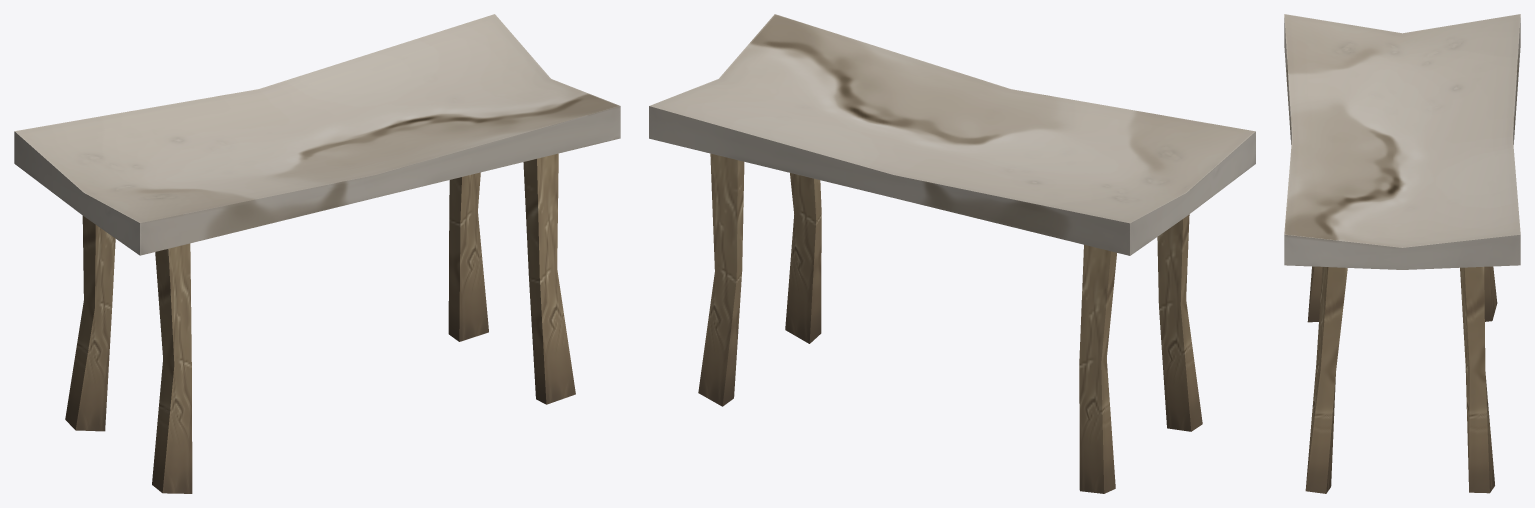
Rendered from Egypt_Village_Props_24.FBX.
The picture shows the model from 3 angles, left to right: view 1: azimuth 30°, elevation 25°; view 2: azimuth 150°, elevation 25°; view 3: azimuth 270°, elevation 25°; orthographic projection. The views are drawn at different scales.
Visible parts, largest first — view 1: Egypt_Village_Props_24; view 2: Egypt_Village_Props_24; view 3: Egypt_Village_Props_24.
Boxes of the visible parts, <box> form: Egypt_Village_Props_24: <box>14,14,620,493</box>; Egypt_Village_Props_24: <box>649,14,1255,493</box>; Egypt_Village_Props_24: <box>1284,14,1520,493</box>.
Bounding box in the file's own units: 133 × 78.38 × 60.07.
